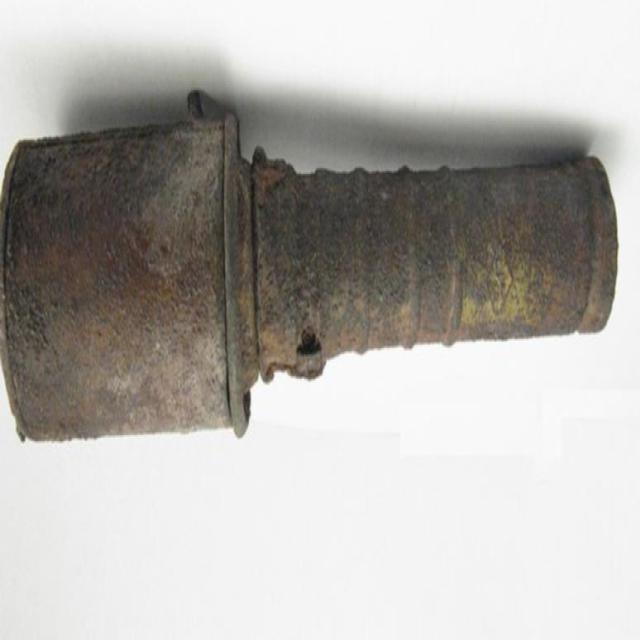grenade: (2, 92, 621, 445)
